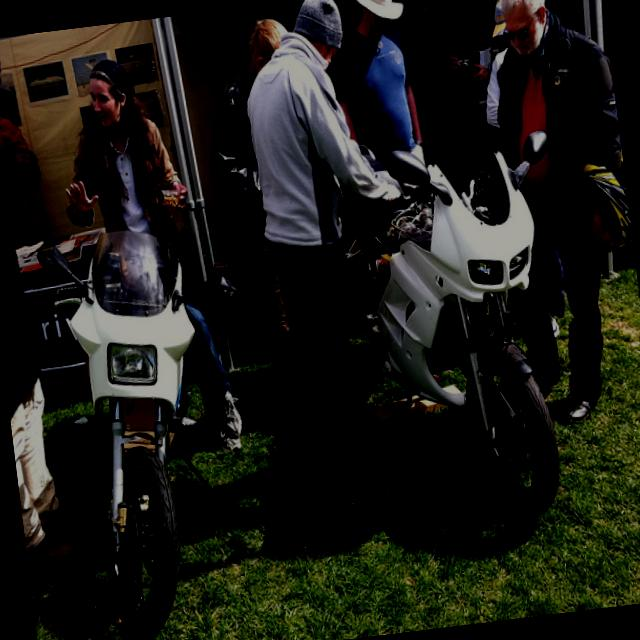Vehicle: (31, 210, 283, 640), (333, 128, 594, 538)
